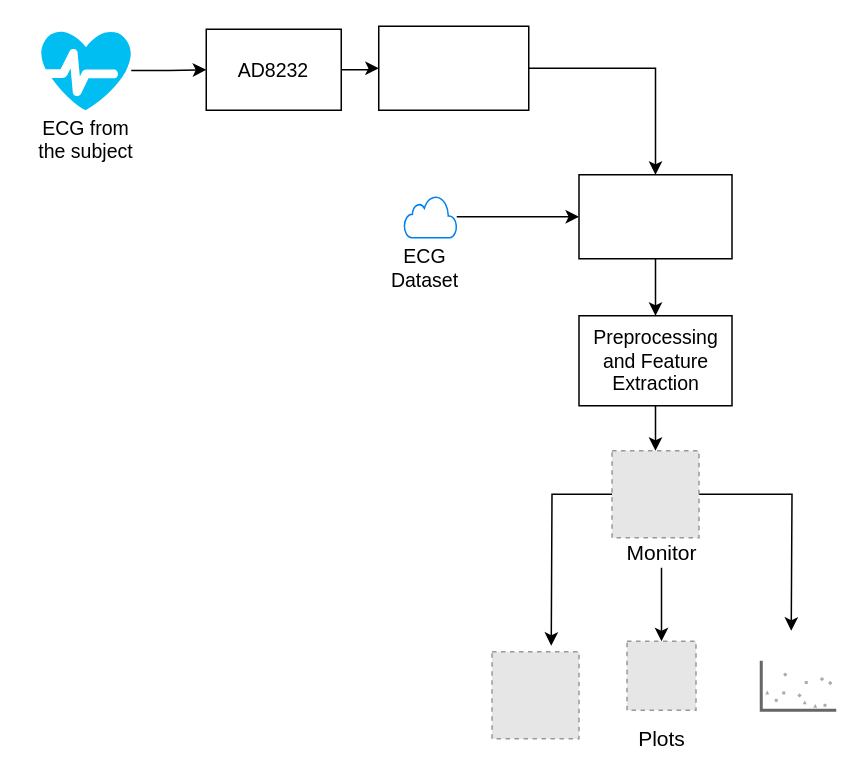
Image size: 861x780. Some labels were removed from this diagram. Grey dashed boxes stand in for pictures. The shapes that lost their labels are listed below. From the top down, each one's box as (x1, y1, x2, y2) in pixels, then its label:
(377, 25, 529, 110): Arduino Uno
(578, 173, 732, 259): Raspberry Pi 3B+
